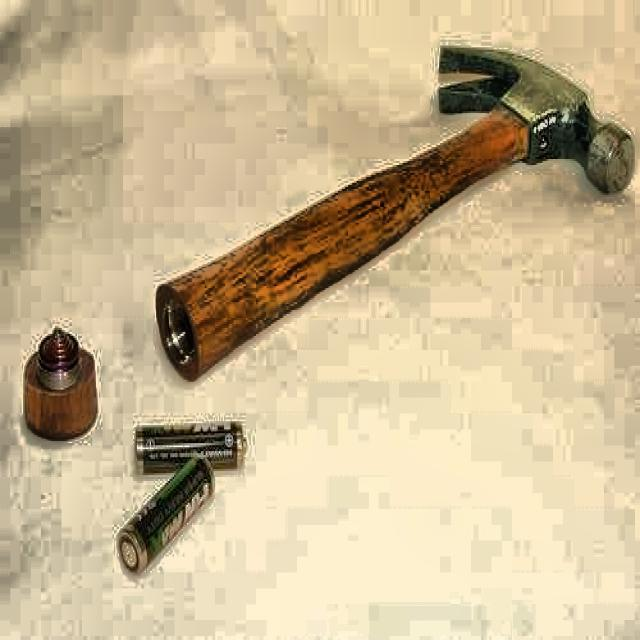hammer: (155, 42, 636, 387)
